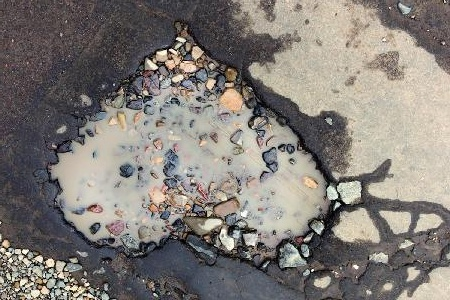pothole: (44, 20, 344, 273)
